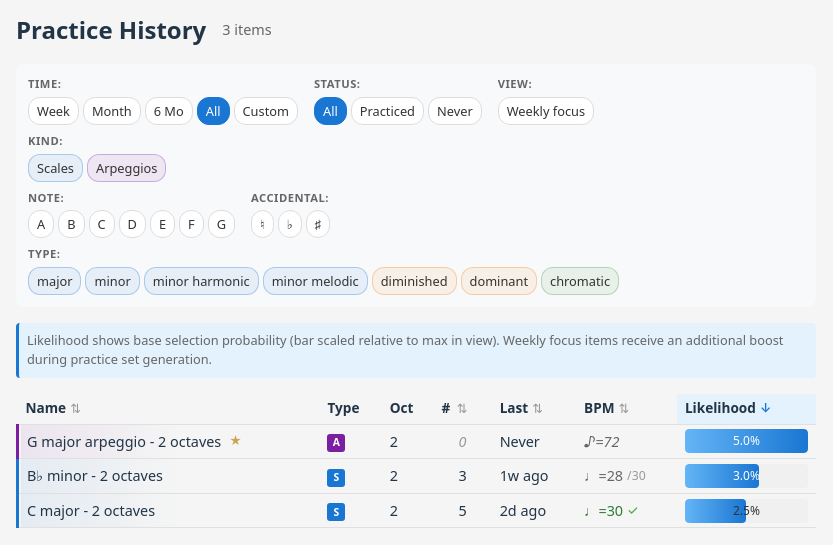
Test: HistoryPage › should filter by item type
Expected: the text "C major - 2 octaves" is shown, [27, 501, 155, 520]
Note: Click Scales chip
Click the button "Scales": (56, 168) [28, 154, 83, 182]
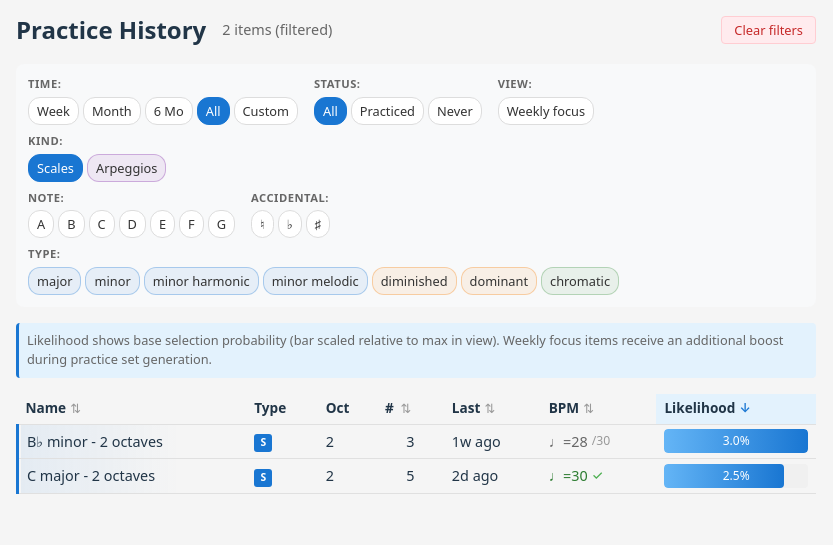
Expected: the text "C major - 2 octaves" is shown, [27, 466, 155, 485]
Now the text "2 items (filtered)" is shown, box [222, 19, 332, 41]
Now the text "G major arpeggio - 2 octaves" is gone
